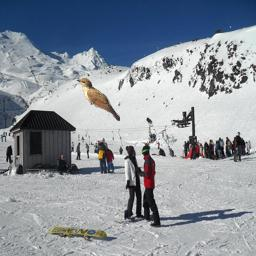Cuckoo: (76, 78, 120, 121)
